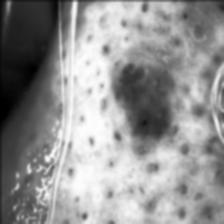Potentially Malignant Skin Tumors: (112, 71, 178, 141)
